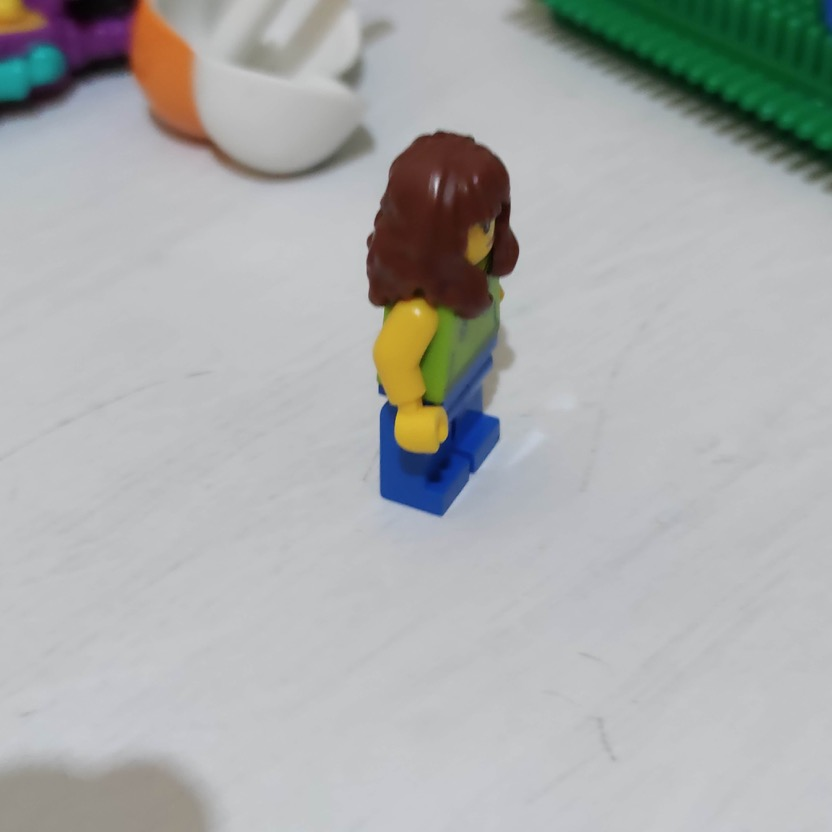lego: (365, 127, 521, 515)
